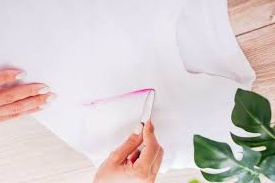lipstick: (82, 85, 157, 100)
